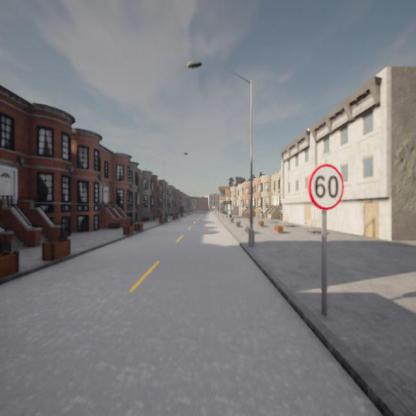traffic_sign_60: (307, 163, 344, 211)
